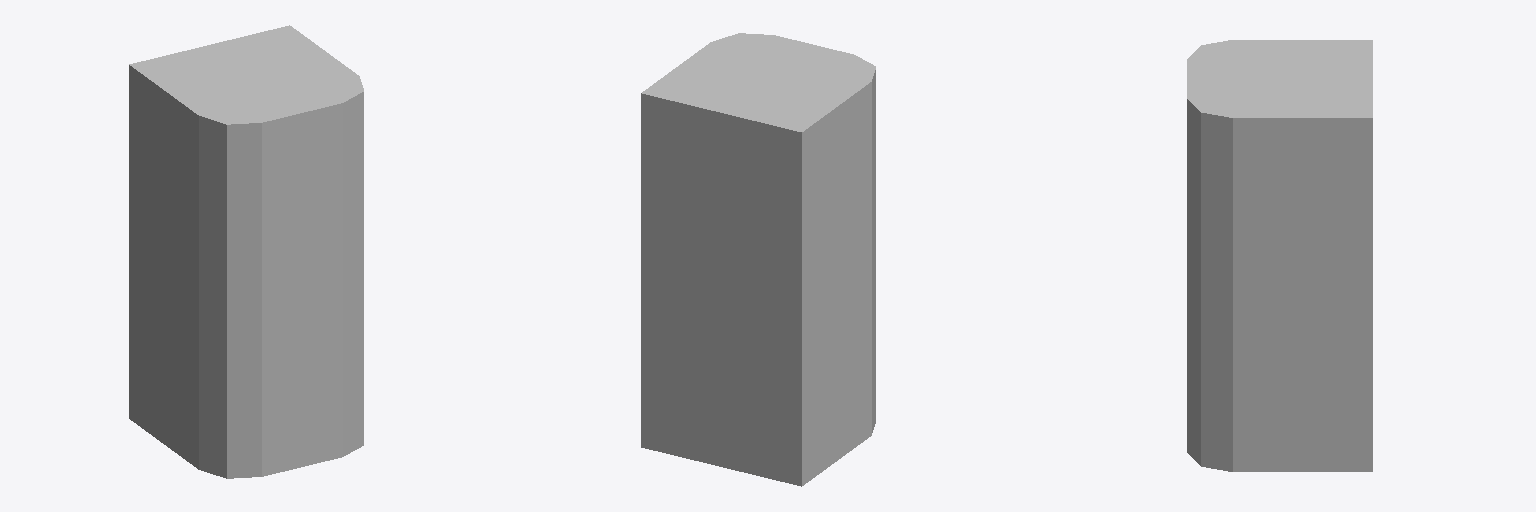
The model's file is bawahgalon.obj.
The picture shows the model from 3 angles: view 1: azimuth 30°, elevation 25°; view 2: azimuth 150°, elevation 25°; view 3: azimuth 270°, elevation 25°; orthographic projection.
Parts seen in each view (by area): view 1: Bardeco_2; view 2: Bardeco_2; view 3: Bardeco_2.
Boxes of the visible parts, box(x1,y1,x2,y2) form: Bardeco_2: box(129, 25, 363, 478); Bardeco_2: box(641, 33, 875, 486); Bardeco_2: box(1187, 40, 1372, 471).
Size of the model in its own units: 1.28 by 2.69 by 1.28.